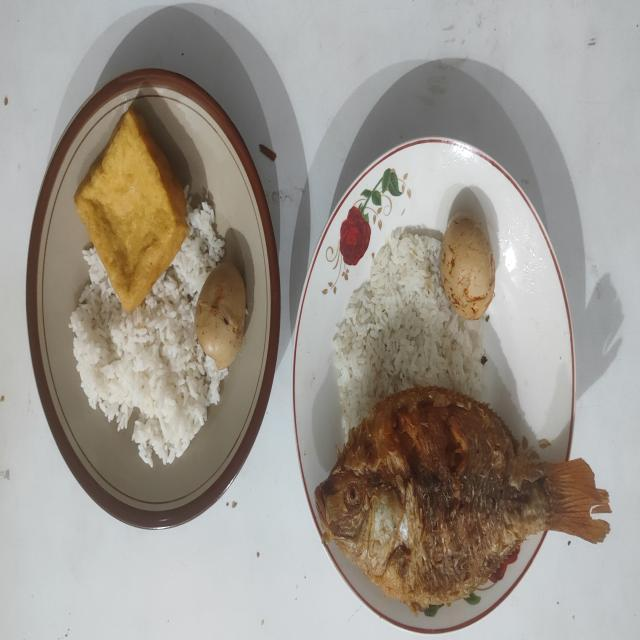ikan_mujair: (314, 386, 610, 613)
nasi_putih: (70, 202, 228, 468), (332, 226, 486, 440)
tahu_goreng: (74, 108, 188, 311)
